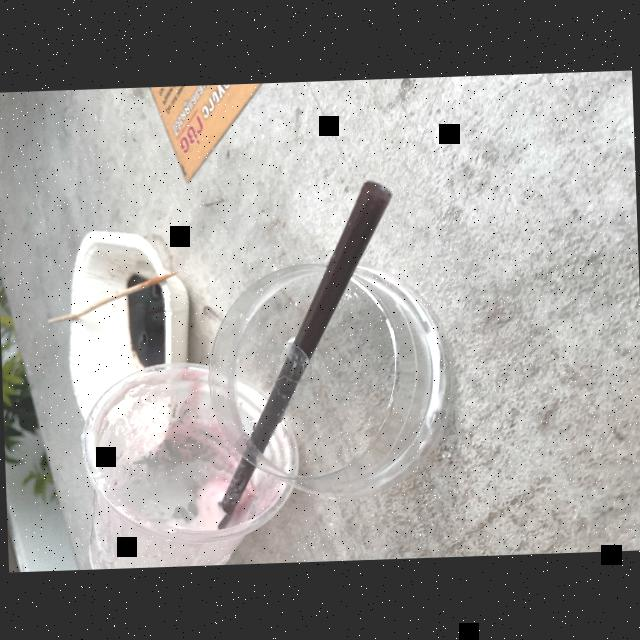cardboard_bowl: (44, 216, 198, 454)
plastic_cup: (58, 368, 304, 568)
plastic_cup_lid: (203, 249, 457, 508)
stick: (25, 262, 186, 339)
straw: (199, 161, 403, 537)
